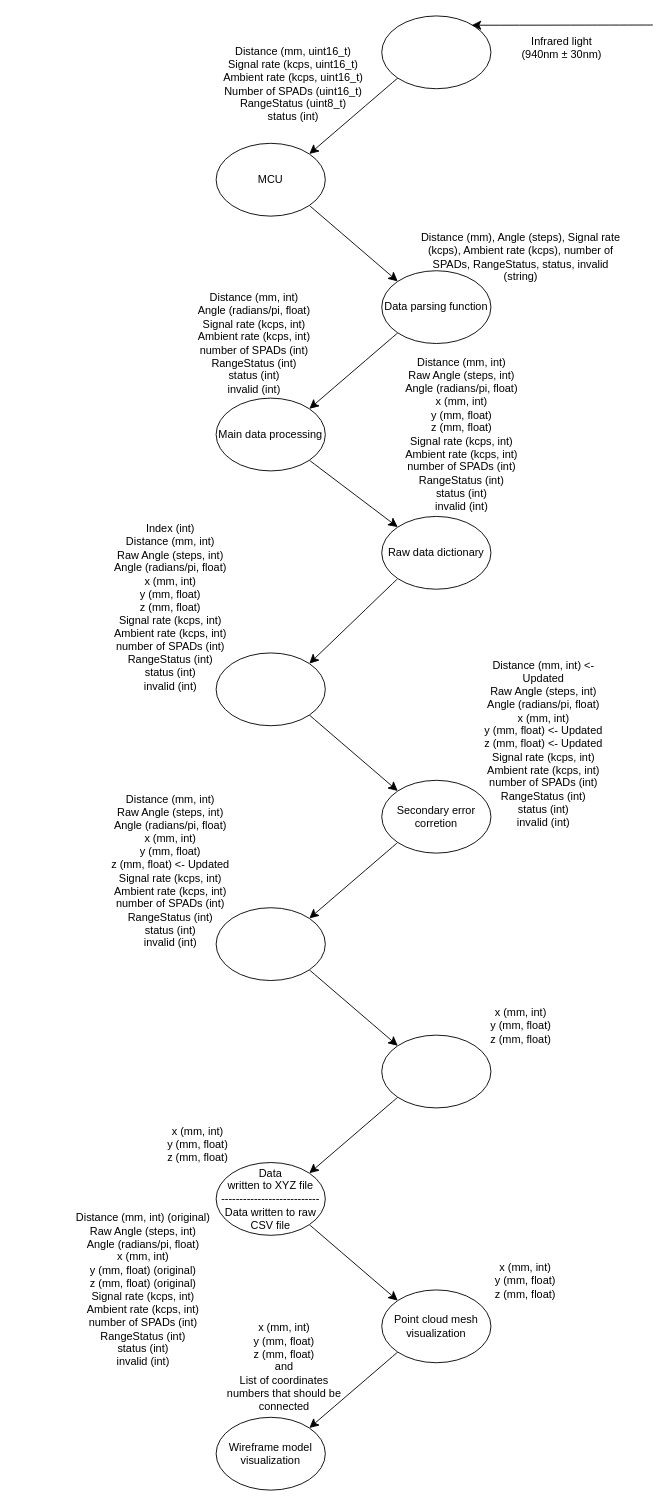
Some shapes in this 669 by 1506 pixel diagram are drawn without their labels. The box of each missing label's shape, as (x1, y1, x2, y2) in pixels:
Array of XYZ coordinate data: (381, 1034, 491, 1108)
Error Handling: (215, 652, 325, 726)
Processed data dictionary: (215, 907, 325, 981)
ToF sensor: (381, 15, 491, 89)
